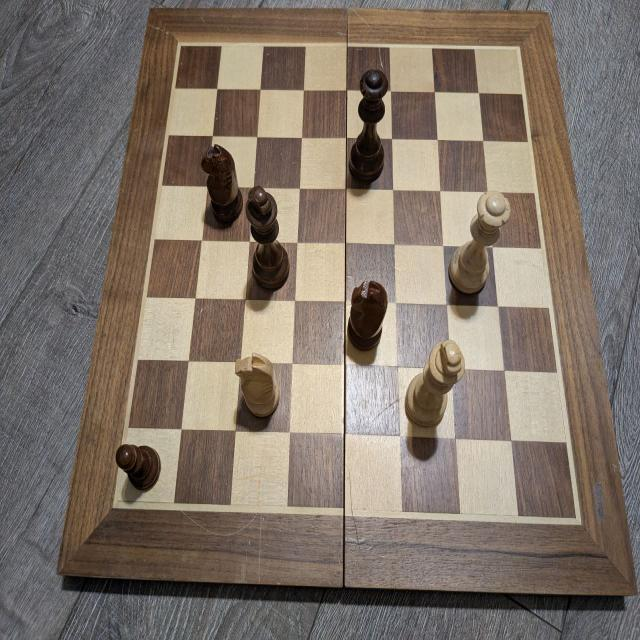black_king: (248, 186, 290, 290)
black_knight: (202, 143, 243, 223), (348, 278, 389, 350)
black_pawn: (116, 443, 162, 492)
black_queen: (348, 69, 389, 183)
white_king: (404, 339, 466, 427)
white_knight: (235, 352, 281, 417)
white_queen: (446, 188, 511, 294)
